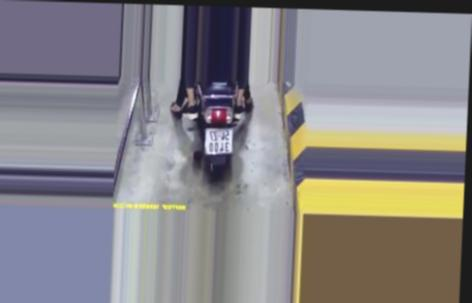License_Plate: (199, 126, 237, 156)
